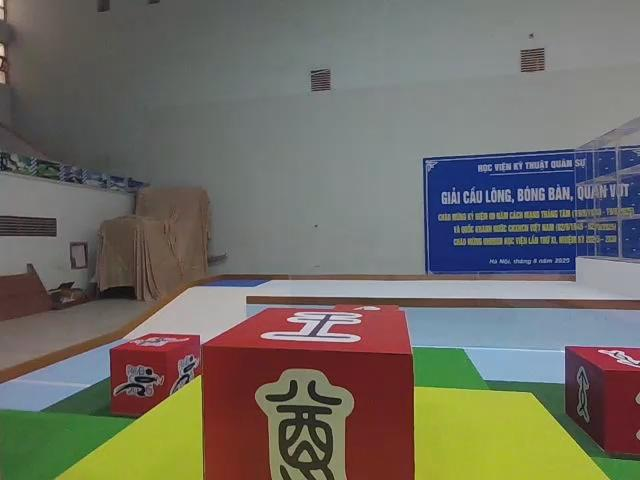R1: (109, 330, 203, 421)
R2 Fake: (202, 304, 415, 480)
R2 Real: (563, 344, 640, 463)
